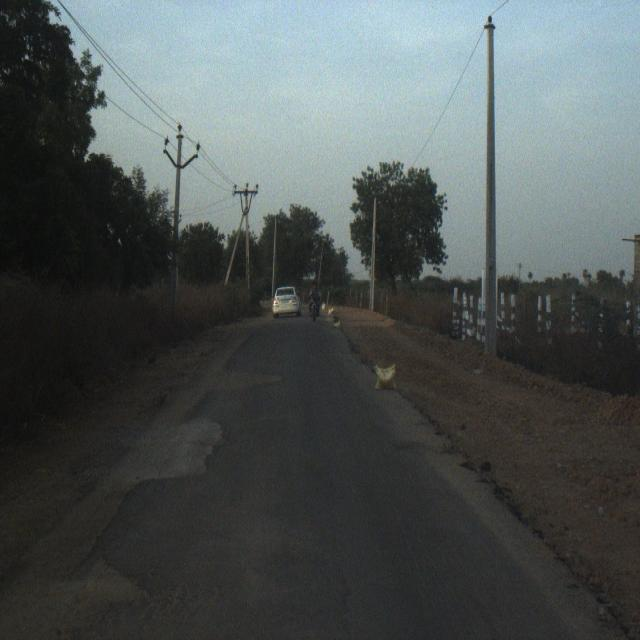pothole: (74, 508, 180, 640), (180, 401, 250, 496)
